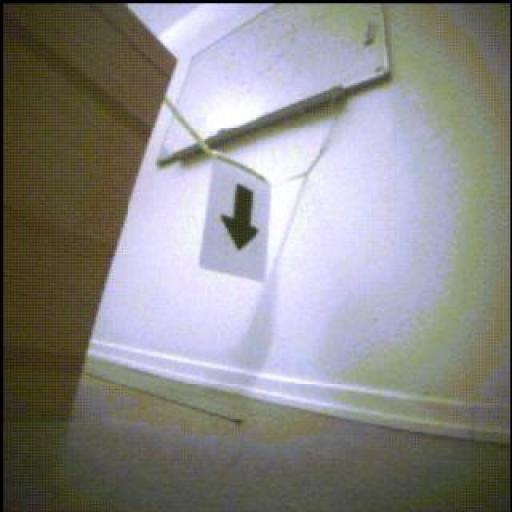arrow: (222, 185, 259, 251)
